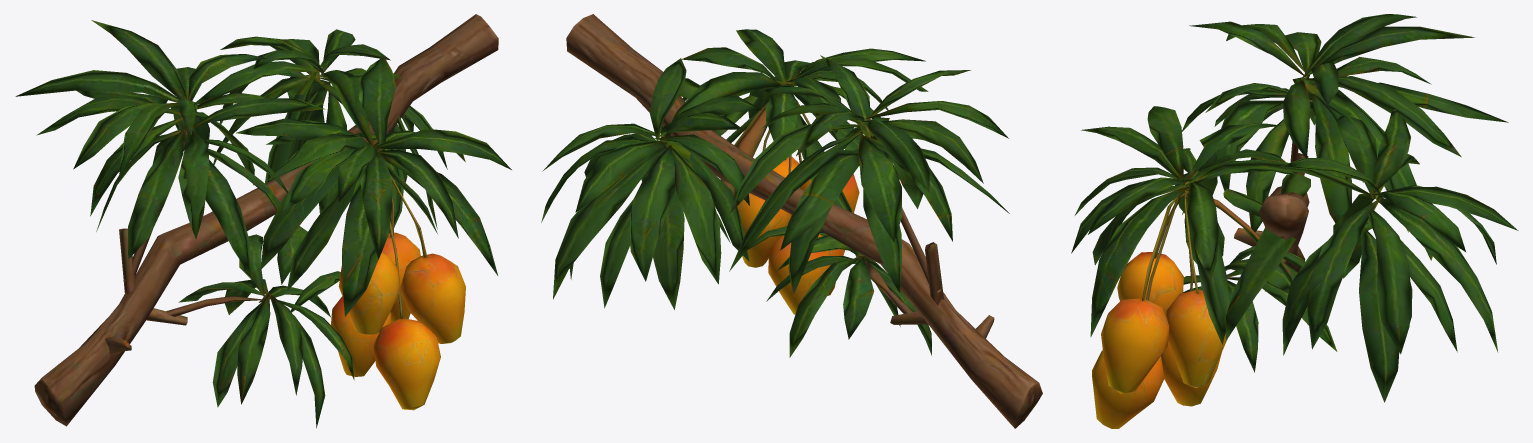
The model's file is mango-branch.glb.
3 views of the same model, side by side, from view 1: azimuth 30°, elevation 25°; view 2: azimuth 150°, elevation 25°; view 3: azimuth 270°, elevation 25° (orthographic). The views are drawn at different scales.
Parts seen in each view (by area): view 1: geometry_0; view 2: geometry_0; view 3: geometry_0.
Part boxes in pixels (x1,y1,x2,y2): geometry_0: (15, 14, 511, 428); geometry_0: (541, 14, 1042, 428); geometry_0: (1071, 14, 1518, 428).
Size of the model in its own units: 1 by 0.667 by 0.8269.
Materials: 1 (1 with a texture image).
